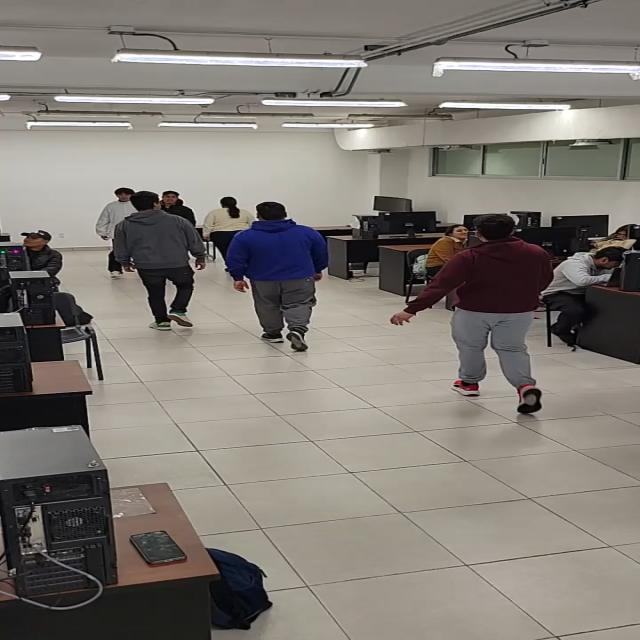Persona: (389, 213, 553, 414), (224, 202, 330, 352), (111, 190, 210, 332), (96, 187, 148, 279), (202, 195, 255, 272), (156, 188, 199, 230)
